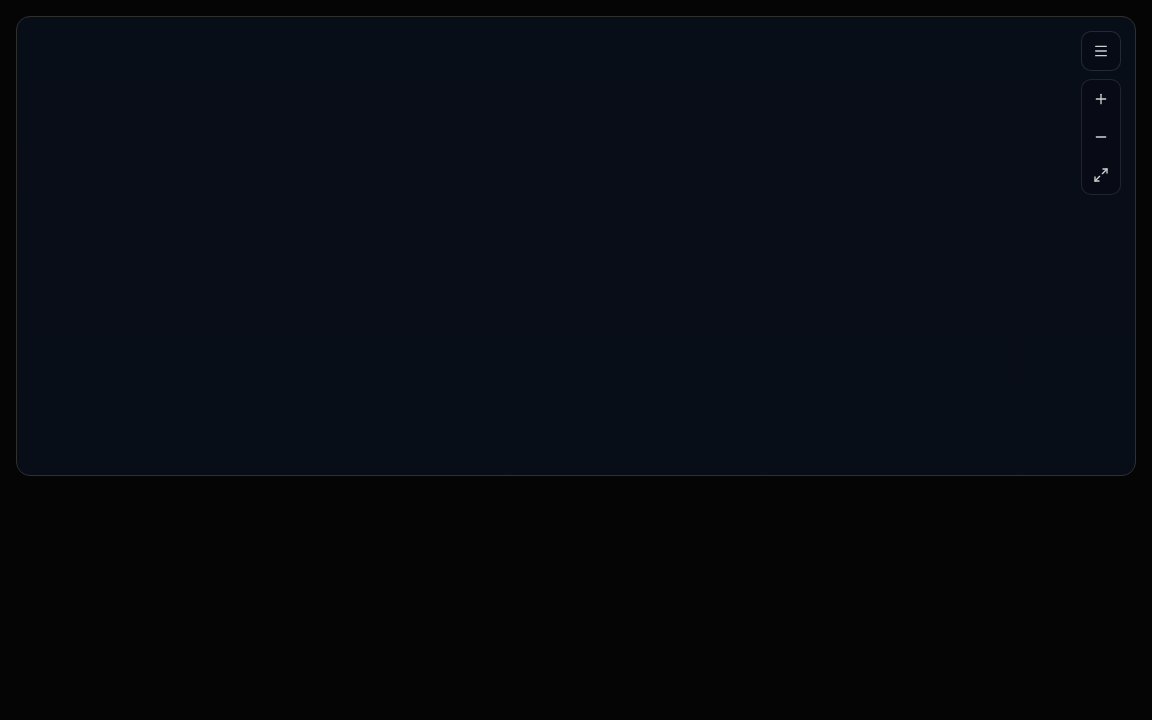
Test: WorldHeatmap info panel › takes Escape before fullscreen does
This screenshot has width=1152, height=720.
Click the button named "Fullscreen" at point(1101, 175), box [1083, 157, 1119, 193]
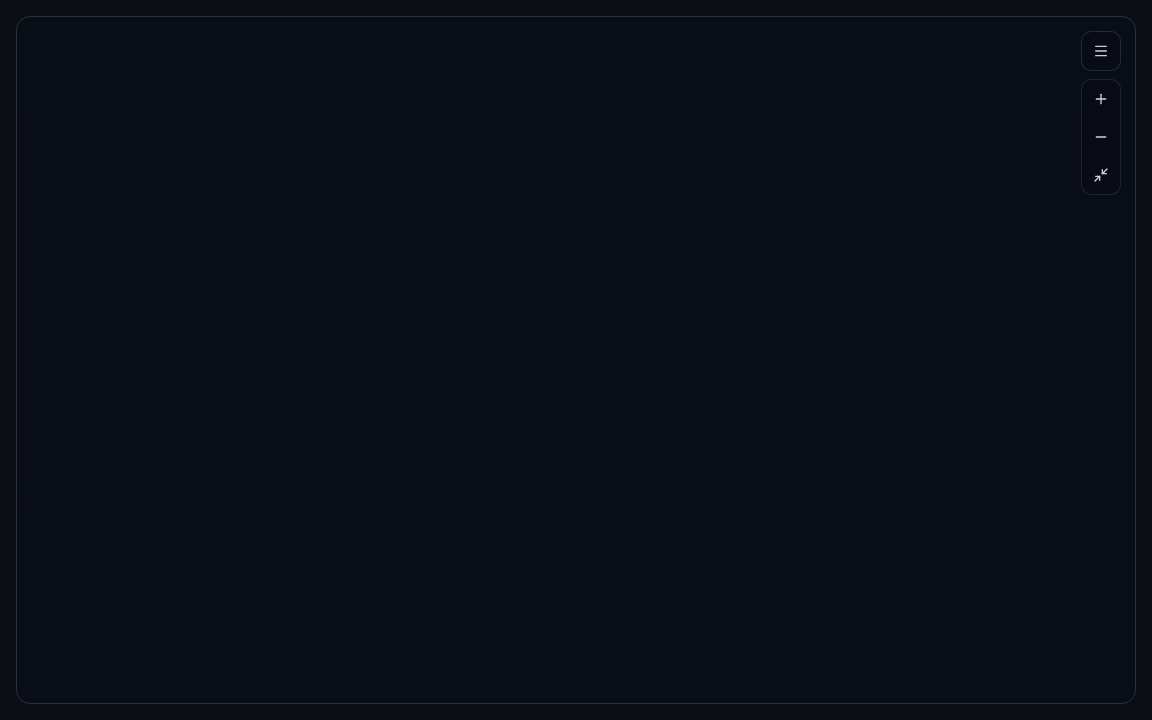
Click the button named "Map controls" at point(1101, 51), box [1081, 31, 1121, 71]
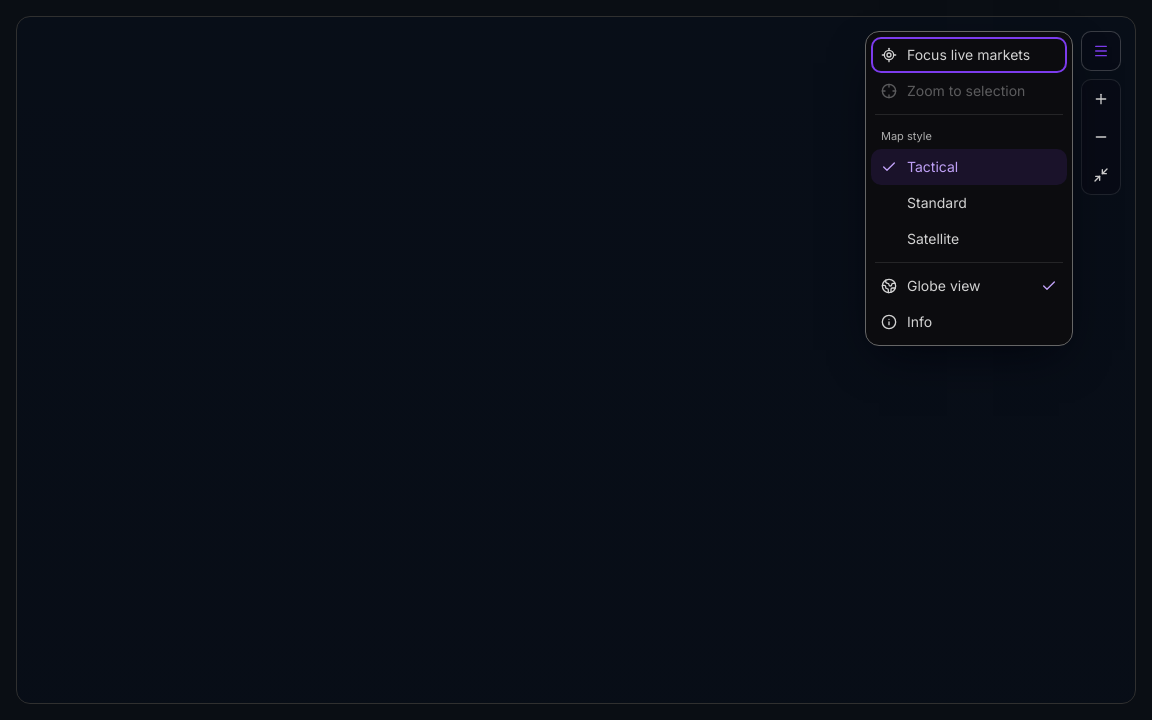
Click the button "Info" at point(969, 322), box [871, 304, 1067, 340]
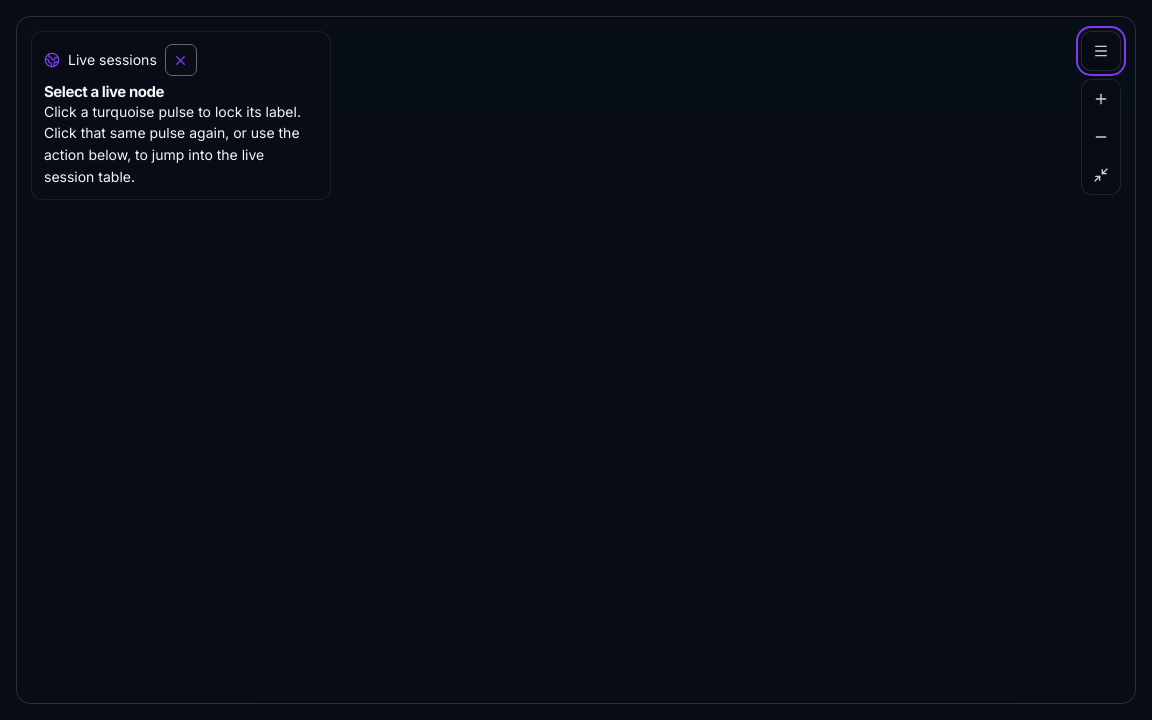
Press Escape
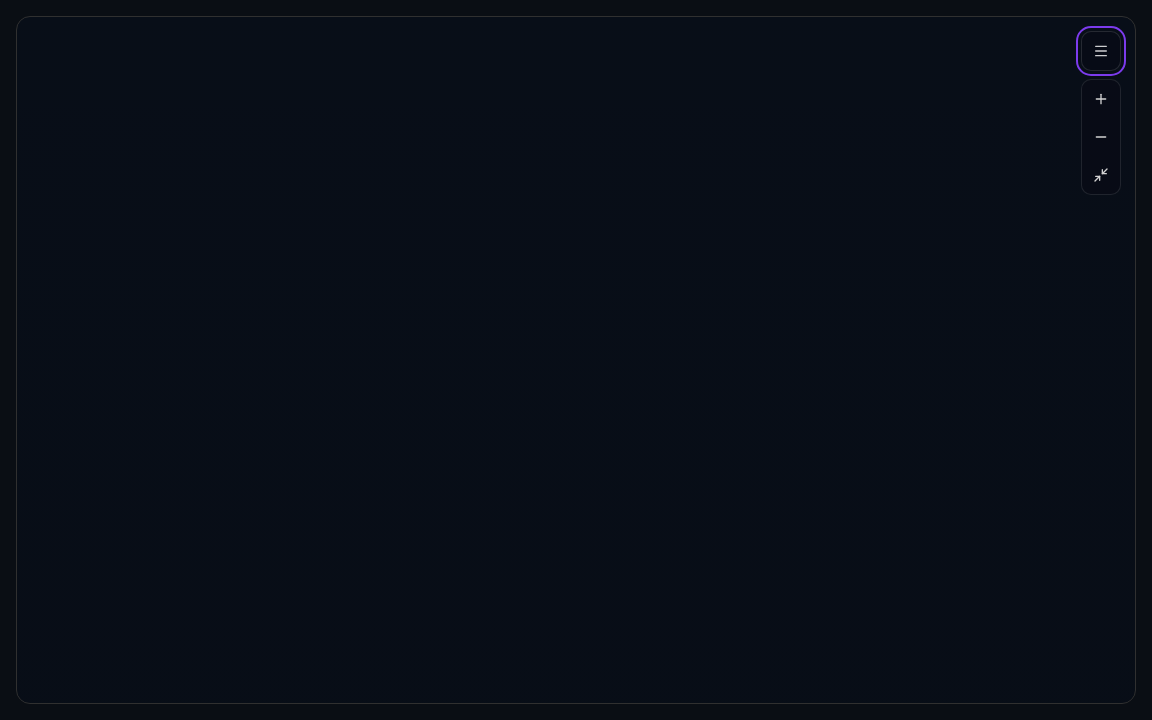
Check: the element with class "world-heatmap-fullscreen" is shown
Check: the element with class "world-heatmap-floating-panel" is gone
